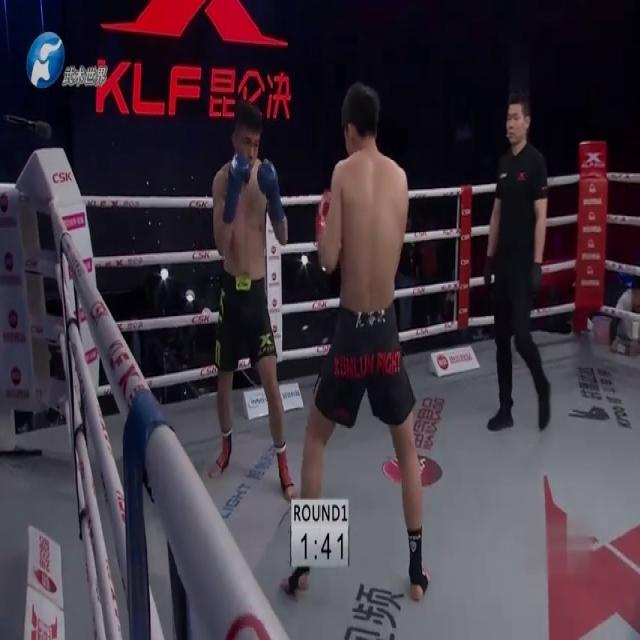fight: (206, 78, 430, 634)
non-fight: (472, 88, 553, 432)
